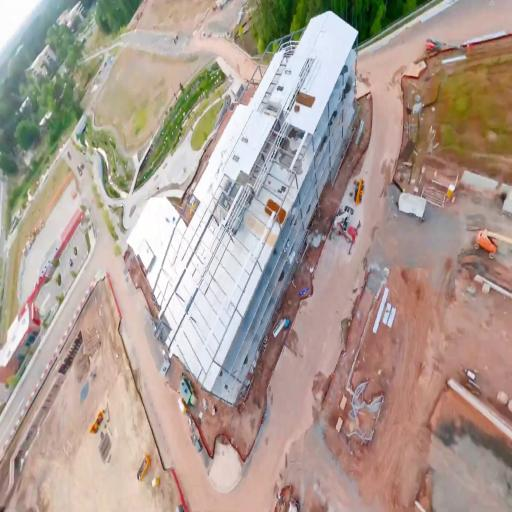uav: (298, 285, 310, 300)
